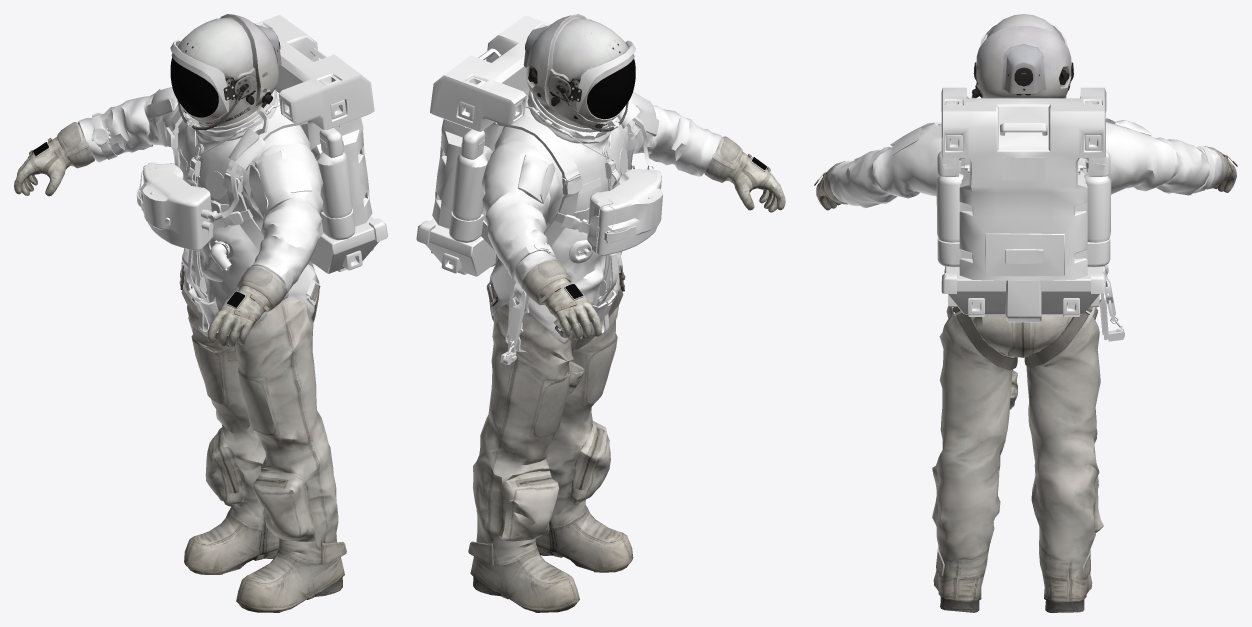
The model's file is cosmo.glb.
3 renders of one model, left to right at view 1: azimuth 30°, elevation 25°; view 2: azimuth 150°, elevation 25°; view 3: azimuth 270°, elevation 25°, orthographic.
Parts seen in each view (by area): view 1: Object_8, Object_22, Object_14, Object_10, Object_20, Object_16, Object_4, Object_18, Object_24; view 2: Object_8, Object_22, Object_14, Object_10, Object_20, Object_16, Object_18, Object_4, Object_24; view 3: Object_14, Object_8, Object_22, Object_20, Object_10, Object_18, Object_16.
Boxes of the visible parts, x1,y1,x2,y2 form: Object_8: [179, 260, 346, 565]; Object_22: [78, 87, 323, 336]; Object_14: [140, 14, 387, 305]; Object_10: [184, 513, 344, 612]; Object_20: [171, 14, 281, 130]; Object_16: [14, 122, 286, 346]; Object_4: [139, 40, 279, 218]; Object_18: [91, 112, 321, 230]; Object_24: [170, 58, 218, 117]; Object_8: [468, 253, 625, 565]; Object_22: [481, 91, 722, 343]; Object_14: [416, 15, 662, 306]; Object_10: [470, 509, 633, 612]; Object_20: [523, 14, 634, 131]; Object_16: [522, 136, 785, 340]; Object_18: [483, 100, 651, 364]; Object_4: [506, 40, 653, 356]; Object_24: [587, 59, 635, 119]; Object_14: [936, 87, 1111, 322]; Object_8: [932, 306, 1103, 579]; Object_22: [829, 118, 1221, 327]; Object_20: [972, 14, 1073, 98]; Object_10: [933, 570, 1092, 612]; Object_18: [959, 146, 1214, 341]; Object_16: [814, 146, 1237, 210].
Size of the model in its own units: 0.8506 by 1.9 by 1.3.
Materials: 8 (4 with a texture image).
